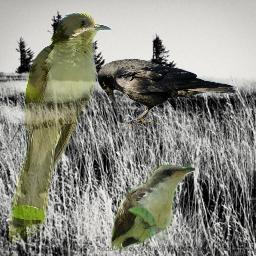Crow: (97, 58, 238, 129)
Cuckoo: (8, 12, 112, 244), (109, 164, 195, 251)
